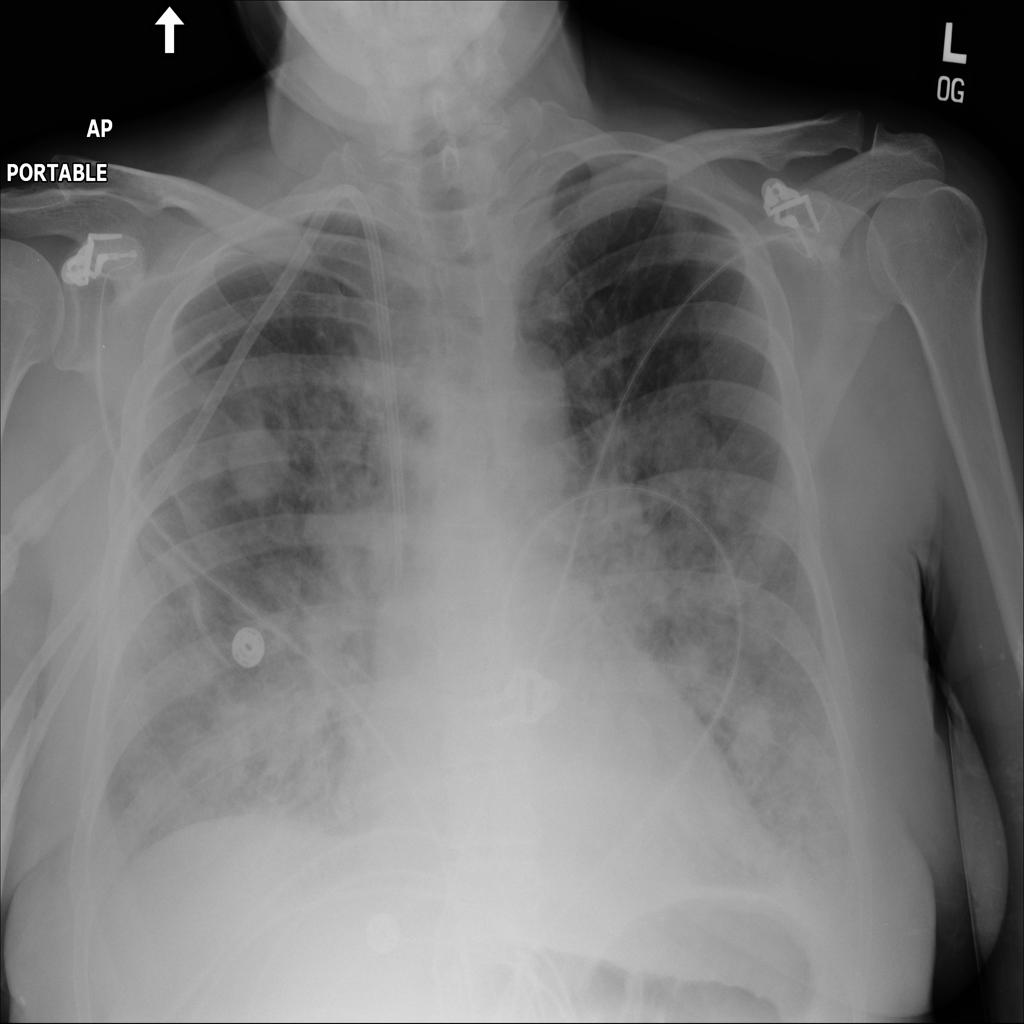nodule: (213, 398, 303, 519), (637, 386, 731, 501), (720, 686, 789, 777), (245, 543, 319, 619)
